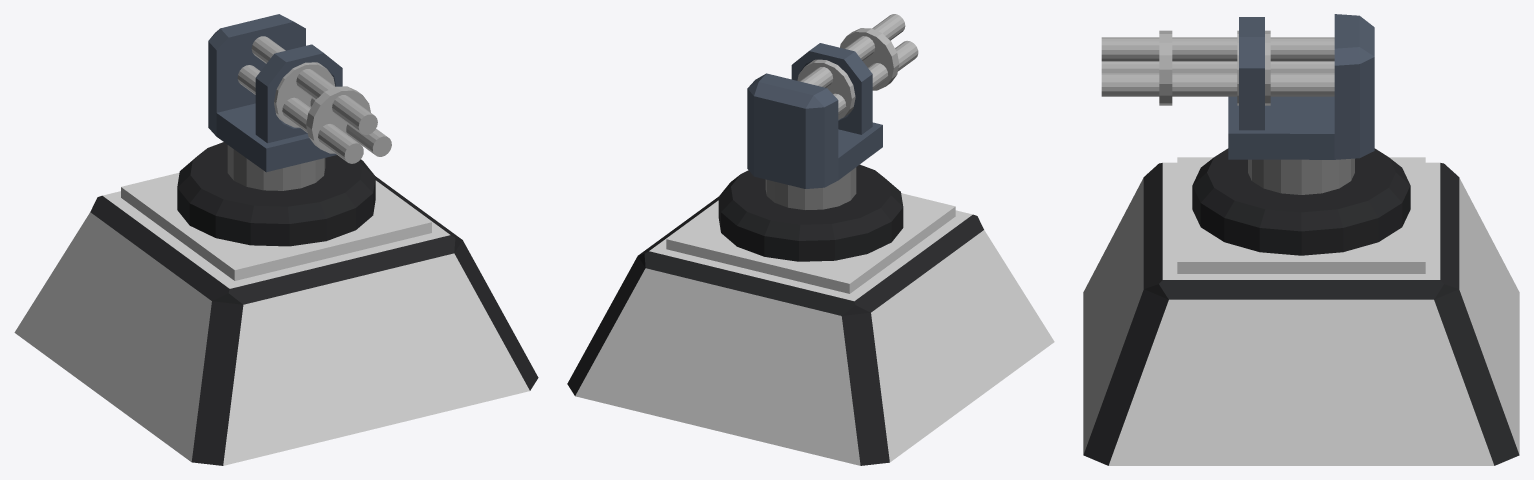
Rendered from Gatling.dae.
3 views of the same model, side by side, from view 1: azimuth 30°, elevation 25°; view 2: azimuth 150°, elevation 25°; view 3: azimuth 270°, elevation 25° (orthographic). The views are drawn at different scales.
Parts seen in each view (by area): view 1: tower, top, barrels, base; view 2: tower, top, barrels, base; view 3: tower, top, barrels, base.
Part boxes in pixels (x1,y1,x2,y2): tower: (14, 142, 538, 465); top: (208, 14, 342, 172); barrels: (237, 36, 391, 163); base: (227, 145, 325, 190); tower: (567, 164, 1054, 465); top: (747, 43, 882, 188); barrels: (797, 14, 918, 119); base: (765, 167, 856, 209); tower: (1083, 148, 1519, 465); top: (1228, 14, 1374, 159); barrels: (1101, 30, 1334, 105); base: (1248, 158, 1354, 194).
Bounding box in the file's own units: 2 × 2 × 1.75.
